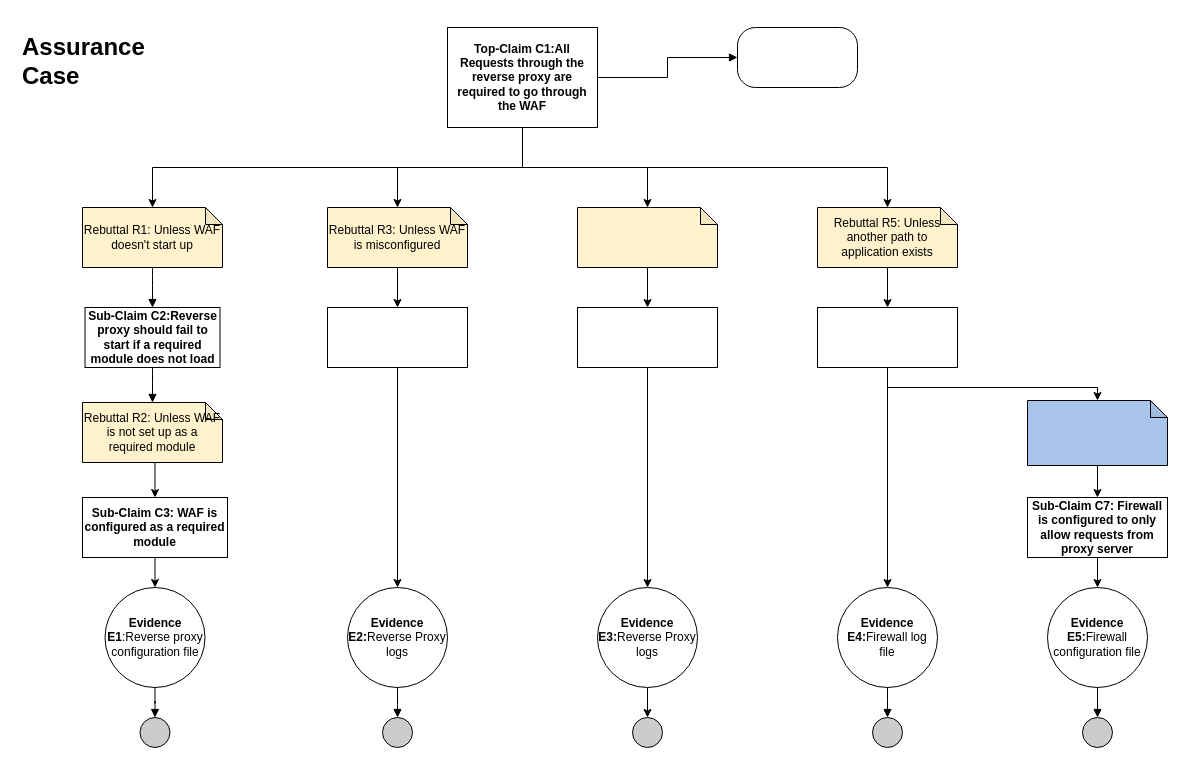
The diagram is 1185 pixels wide and 765 high, and some of its shapes have lost their labels. Each missing label, with the centre of its shape:
Context: CT1Coraza WAF can be deployed as a module in a reverse proxy: point 797,57
Rebuttal R4: Unless Reverse Proxy is misconfigured: point 647,237
Sub-Claim C4:WAF fails to load if misconfigured: point 397,337
Sub-Claim C5: Reverse proxy fails to start if misconfigured: point 647,337
Sub-Claim C6:Firewall application runs on application server: point 887,337
Undermine UM1: Firewall rules are too permissive: point 1097,433
